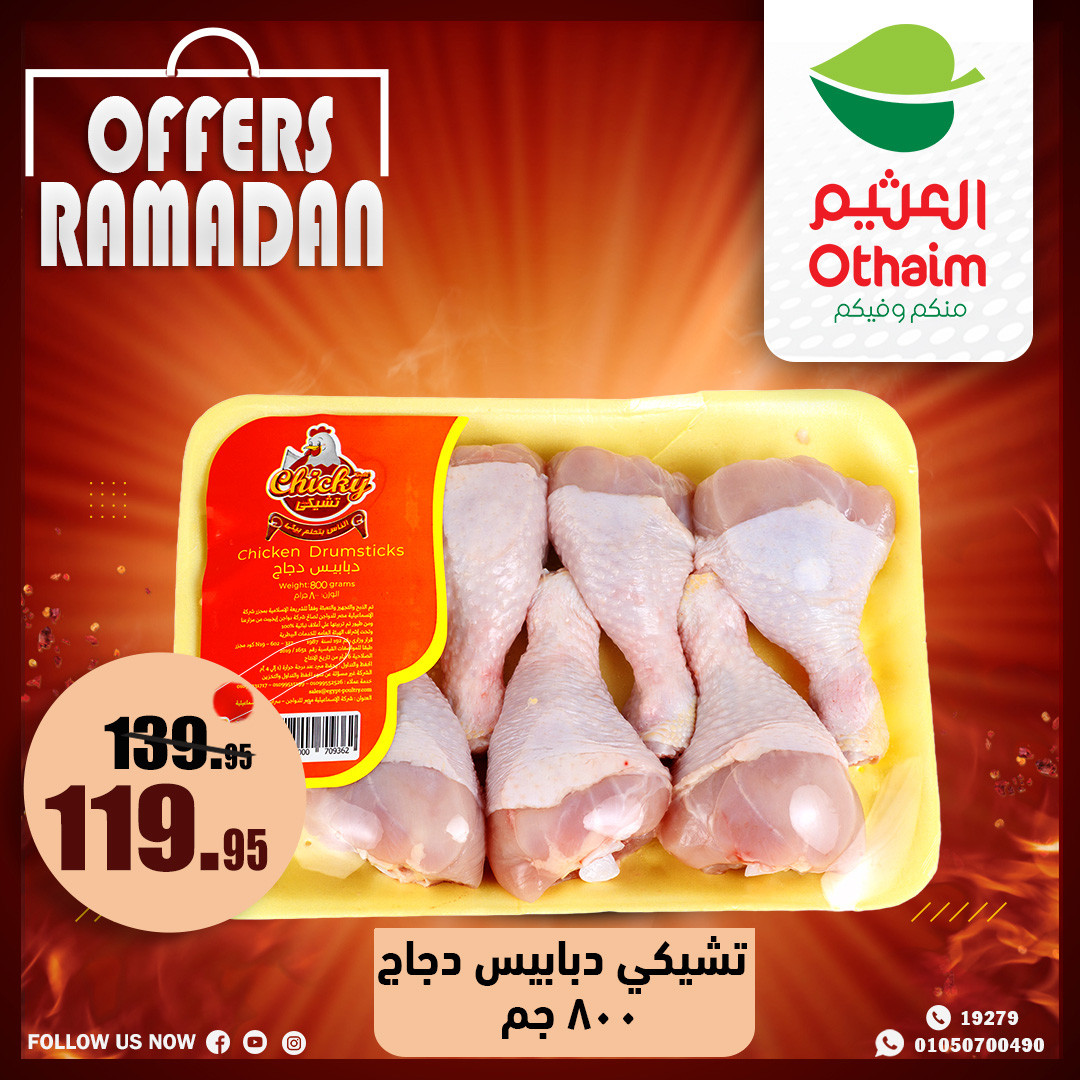product: (24, 388, 944, 1057)
